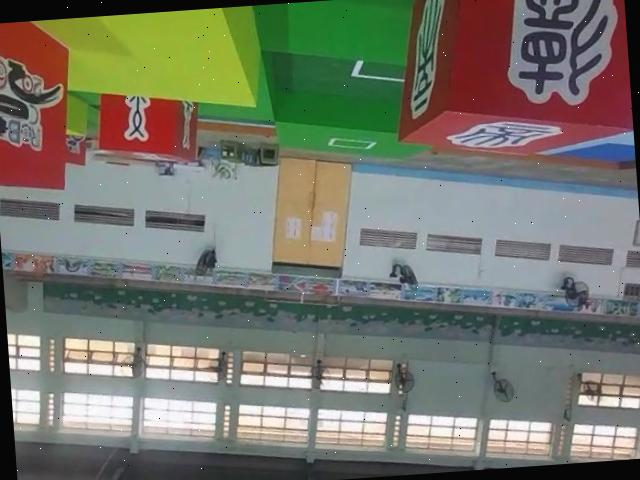R1: (0, 17, 80, 197)
R2 Fake: (385, 0, 634, 164)
R2 Real: (91, 81, 203, 172)
